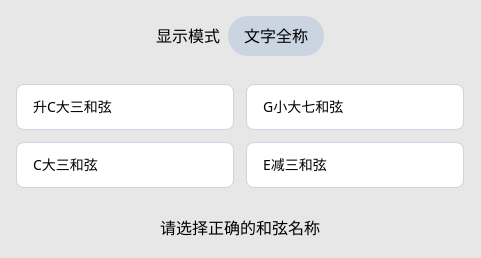
Test: ChordTextSubmitter › clicking the correct option shows 正确✅
Click the button "C大三和弦". click: coordinates (125, 165)
box: left=16, top=142, right=234, bottom=188
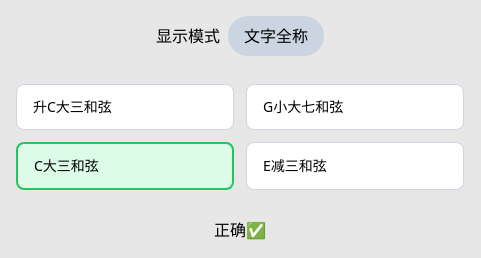
Expected: the text with test id "text-submitter-message" reads "正确✅", left=214, top=219, right=266, bottom=241
